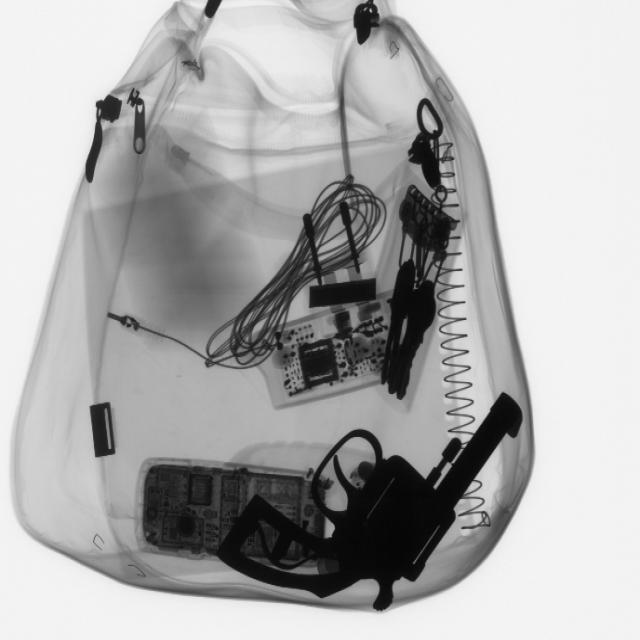GUN: (220, 374, 534, 616)
